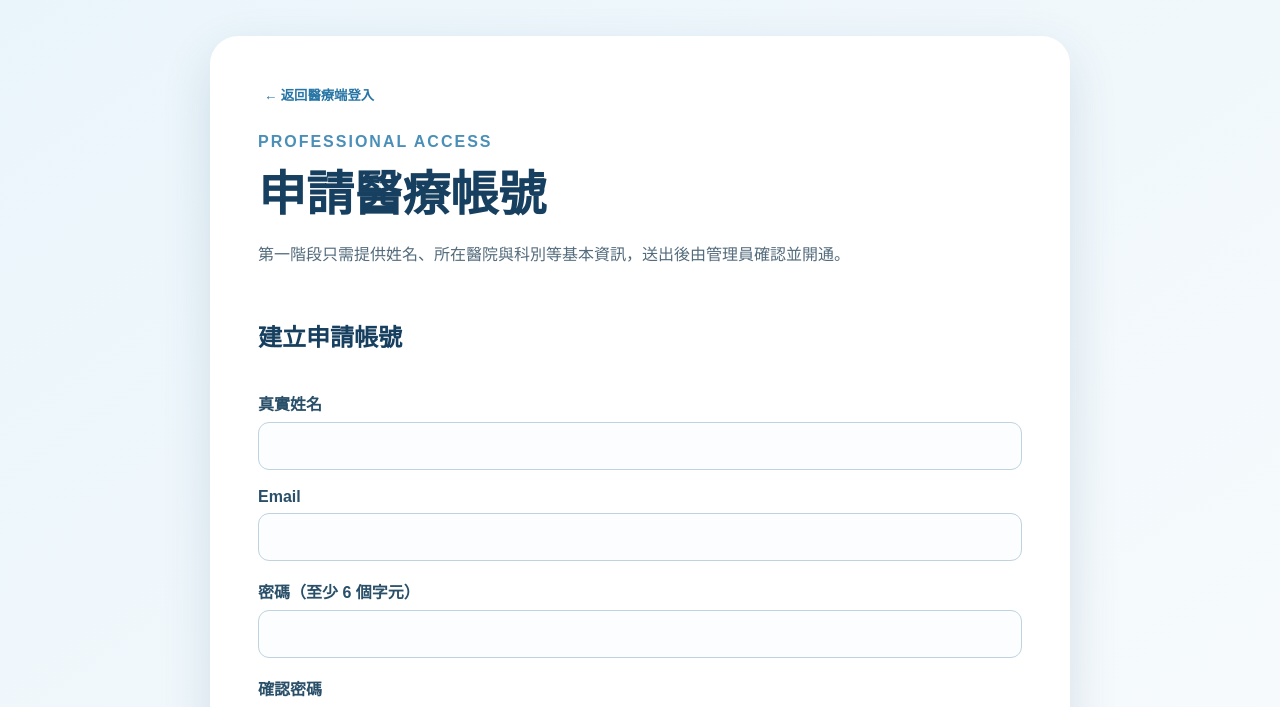
Test case: clinician signup enters the application form without granting clinician access
Type "陳醫師" into the field labelled "真實姓名" at point(640, 446), box [258,422,1022,470]
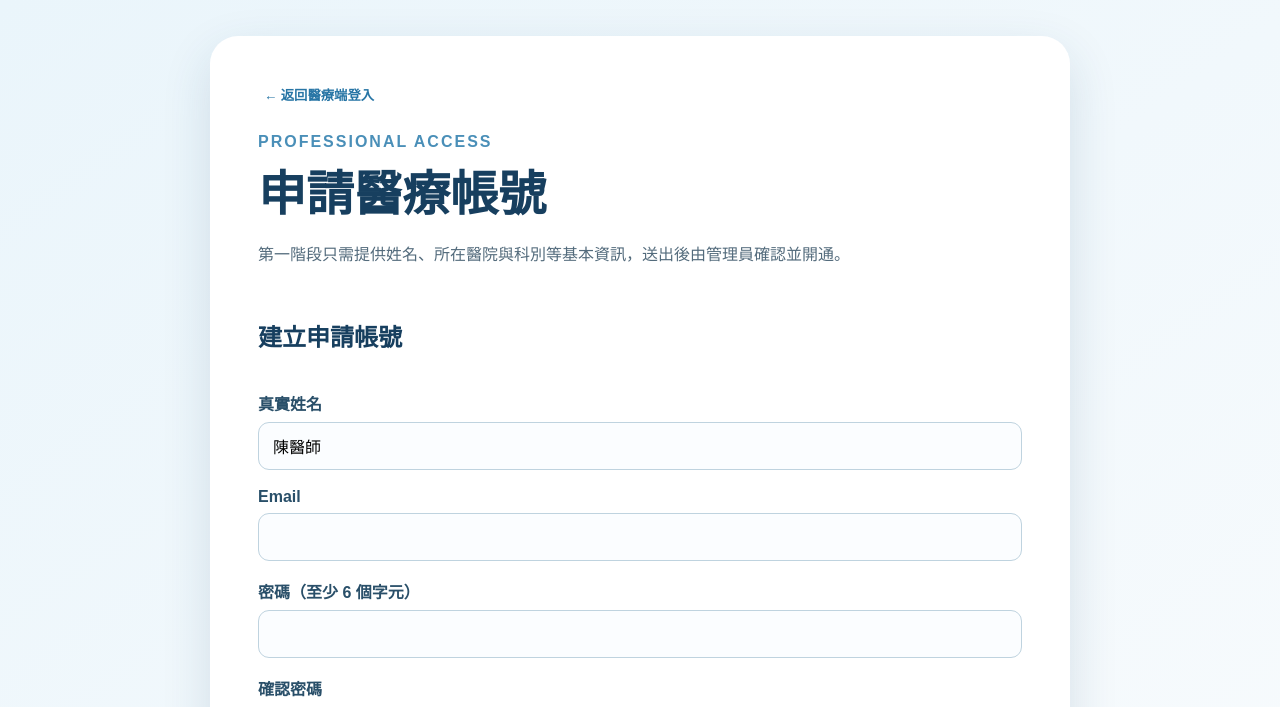
Type "Doctor@example.com" into the field labelled "Email" at point(640, 537), box [258,513,1022,561]
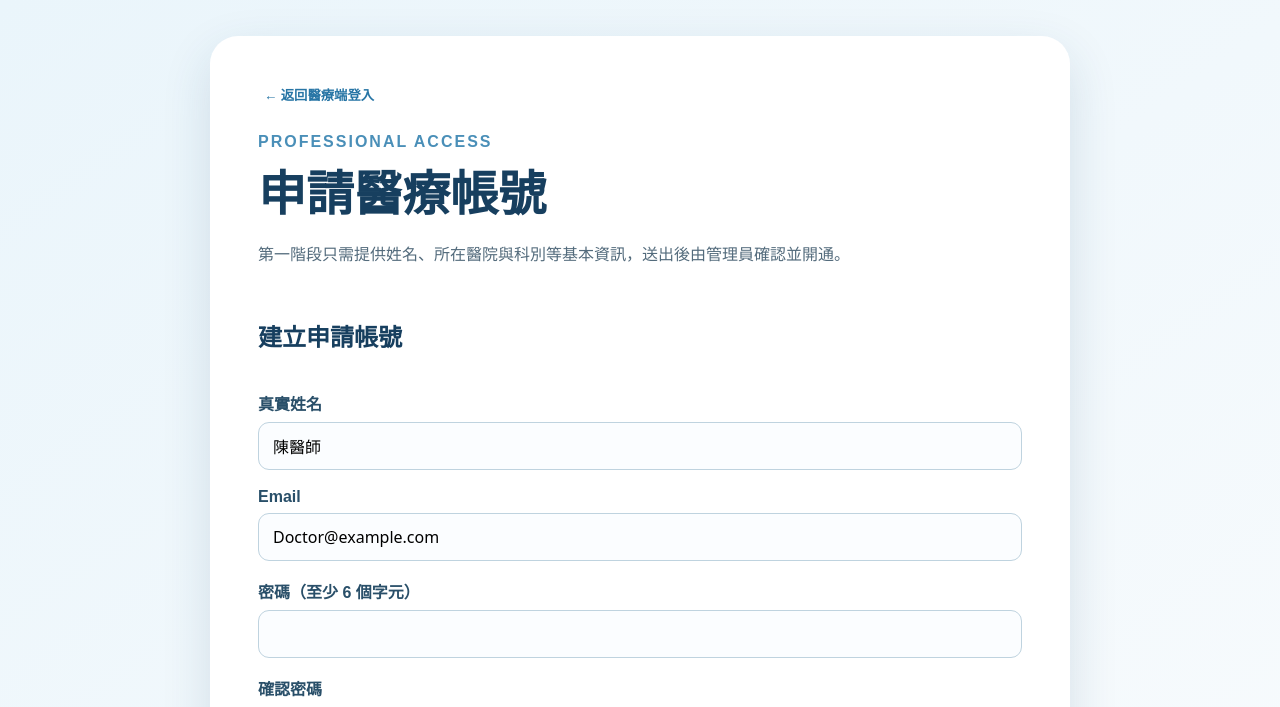
Type "password123" into the password field labelled "密碼（至少 6 個字元）" at point(640, 634), box [258,610,1022,658]
(page scrolled)
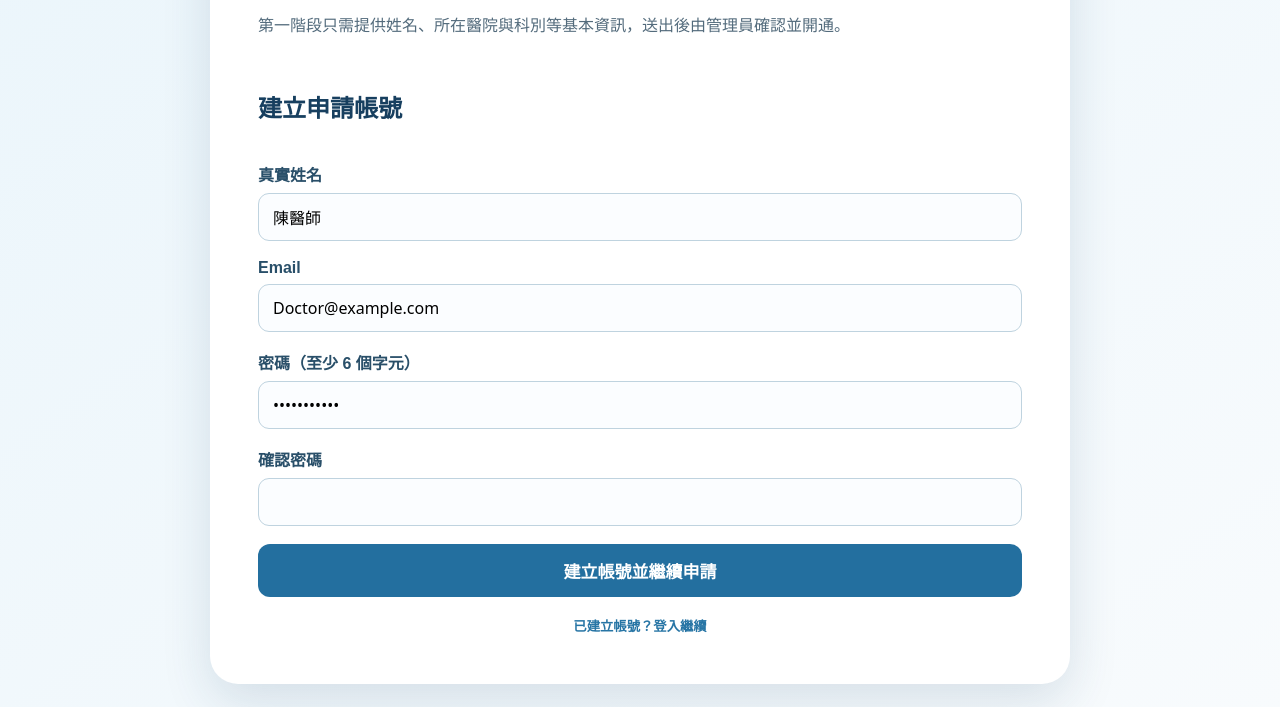
Type "password123" into the password field labelled "確認密碼" at point(640, 502), box [258,478,1022,526]
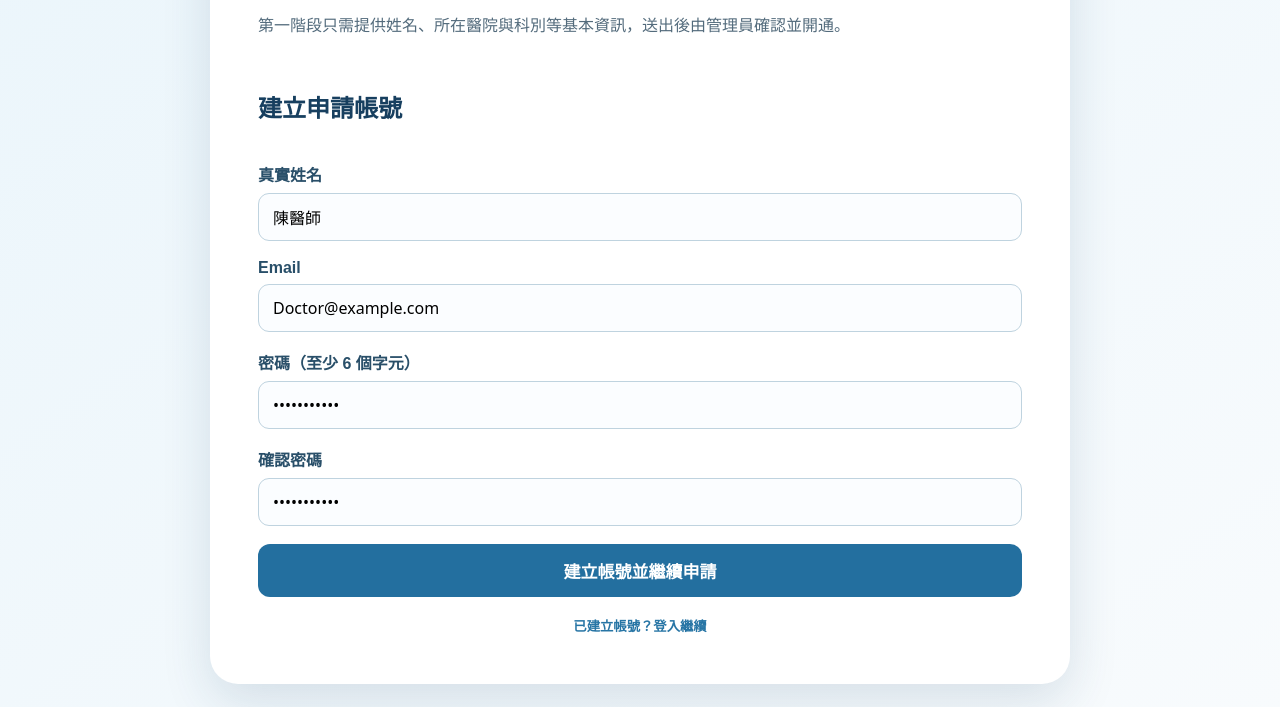
Submit the form, box [258,69,1022,636]
(page scrolled)
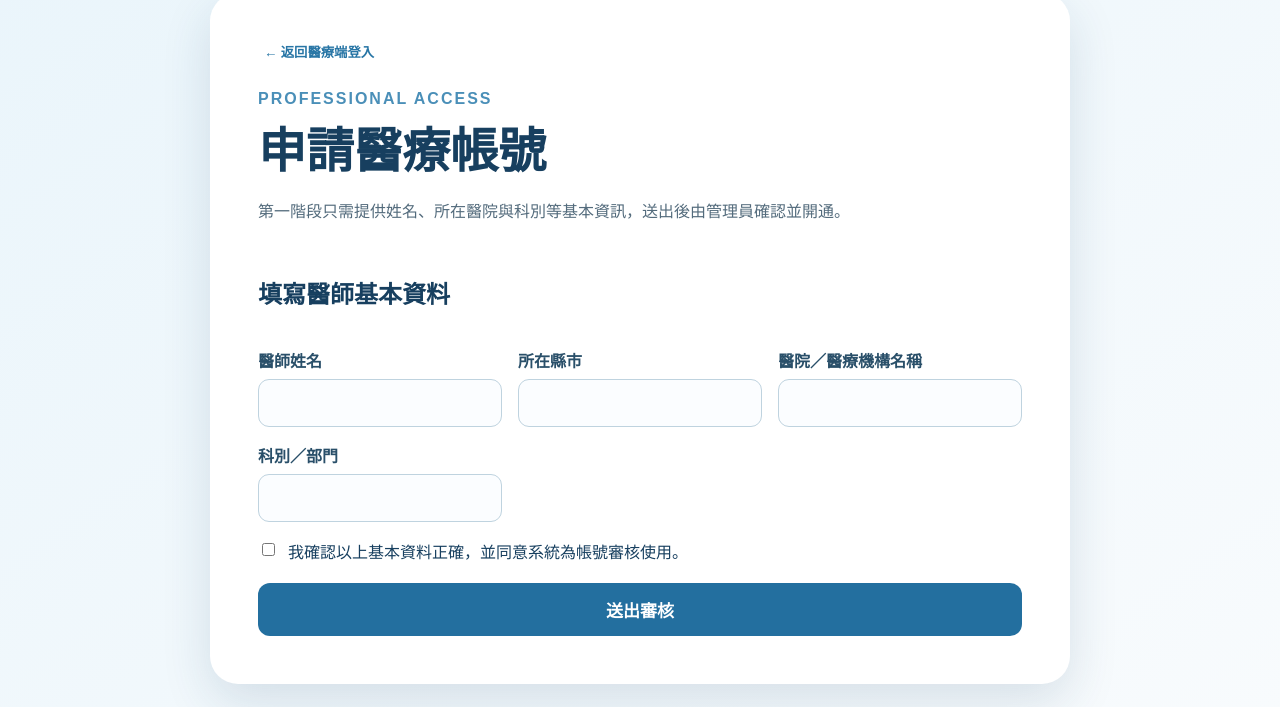
Result: the heading "填寫醫師基本資料" is shown at [258,281,450,308]
